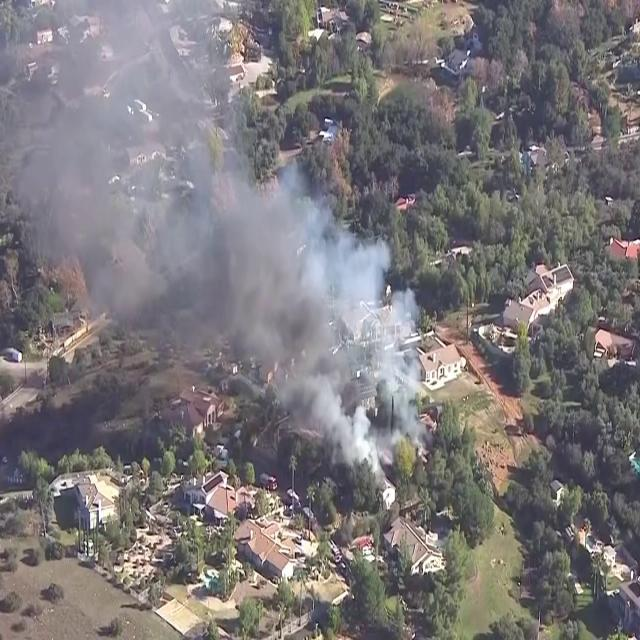Smoke: (3, 18, 432, 486), (152, 84, 428, 499)
